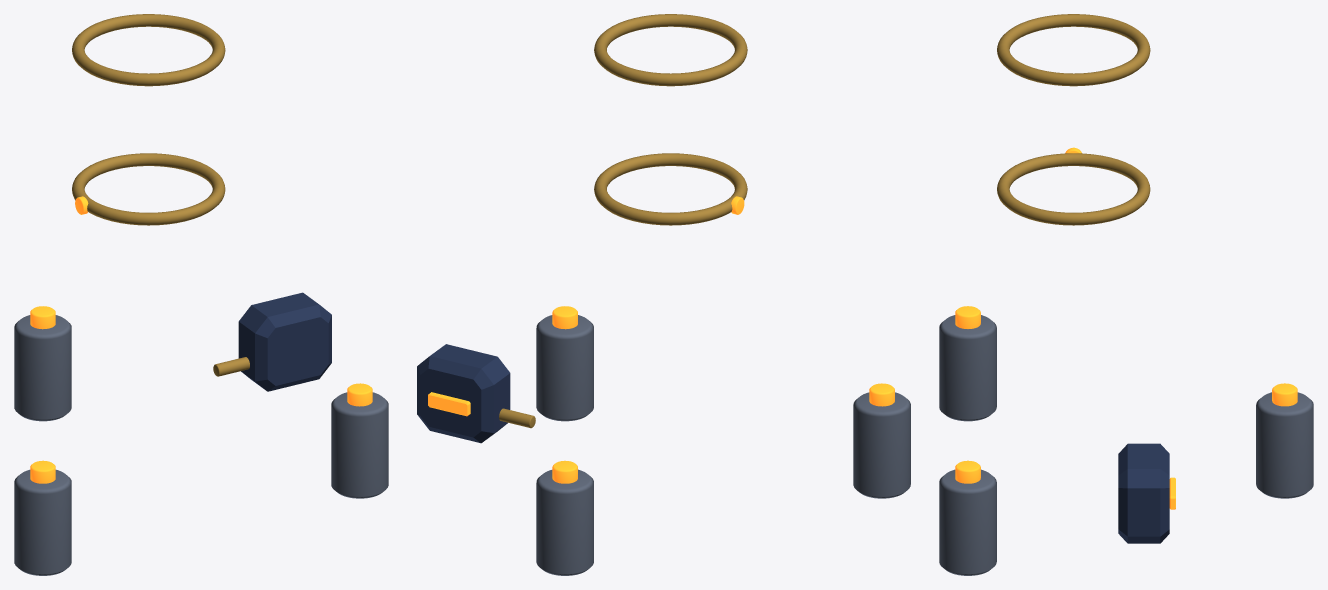
File: tower_overclock_potency_s4.glb
3 views of the same model, side by side, from view 1: azimuth 30°, elevation 25°; view 2: azimuth 150°, elevation 25°; view 3: azimuth 270°, elevation 25° (orthographic).
Visible parts, largest first — view 1: overclock_trap_coupler, overclock_cap1, overclock_cap2, overclock_cap0, overclock_conductor1.98, overclock_conductor1.5, overclock_cap_top1, overclock_cap_top2, overclock_cap_top0, overclock_trap_coupler_pipe; view 2: overclock_trap_coupler, overclock_cap0, overclock_cap2, overclock_cap1, overclock_conductor1.98, overclock_conductor1.5, overclock_trap_coupler_face; view 3: overclock_cap1, overclock_cap0, overclock_cap2, overclock_trap_coupler, overclock_conductor1.5, overclock_conductor1.98, overclock_cap_top0, overclock_cap_top1, overclock_cap_top2.
Part boxes in pixels (<box>): overclock_trap_coupler: <box>238,292,331,391</box>; overclock_cap1: <box>331,392,388,498</box>; overclock_cap2: <box>14,469,71,575</box>; overclock_cap0: <box>14,315,71,421</box>; overclock_conductor1.98: <box>72,14,225,86</box>; overclock_conductor1.5: <box>72,153,225,225</box>; overclock_cap_top1: <box>347,383,372,406</box>; overclock_cap_top2: <box>30,460,55,483</box>; overclock_cap_top0: <box>30,306,55,329</box>; overclock_trap_coupler_pipe: <box>213,357,249,376</box>; overclock_trap_coupler: <box>417,344,510,443</box>; overclock_cap0: <box>536,469,593,575</box>; overclock_cap2: <box>853,392,910,498</box>; overclock_cap1: <box>536,315,593,421</box>; overclock_conductor1.98: <box>594,14,747,86</box>; overclock_conductor1.5: <box>594,153,747,225</box>; overclock_trap_coupler_face: <box>428,392,470,416</box>; overclock_cap1: <box>939,469,996,575</box>; overclock_cap0: <box>1256,392,1313,498</box>; overclock_cap2: <box>939,315,996,421</box>; overclock_trap_coupler: <box>1118,443,1169,543</box>; overclock_conductor1.5: <box>997,153,1150,225</box>; overclock_conductor1.98: <box>997,14,1150,86</box>; overclock_cap_top0: <box>1272,383,1297,406</box>; overclock_cap_top1: <box>955,460,980,483</box>; overclock_cap_top2: <box>955,306,980,328</box>.
Bounding box in the file's own units: 1.42 × 1.53 × 1.17.
